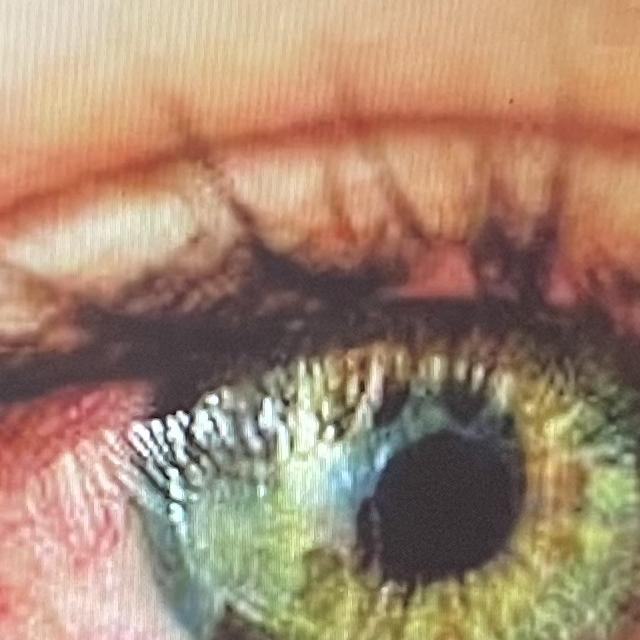eye: (0, 286, 640, 640)
iris: (122, 306, 640, 640)
